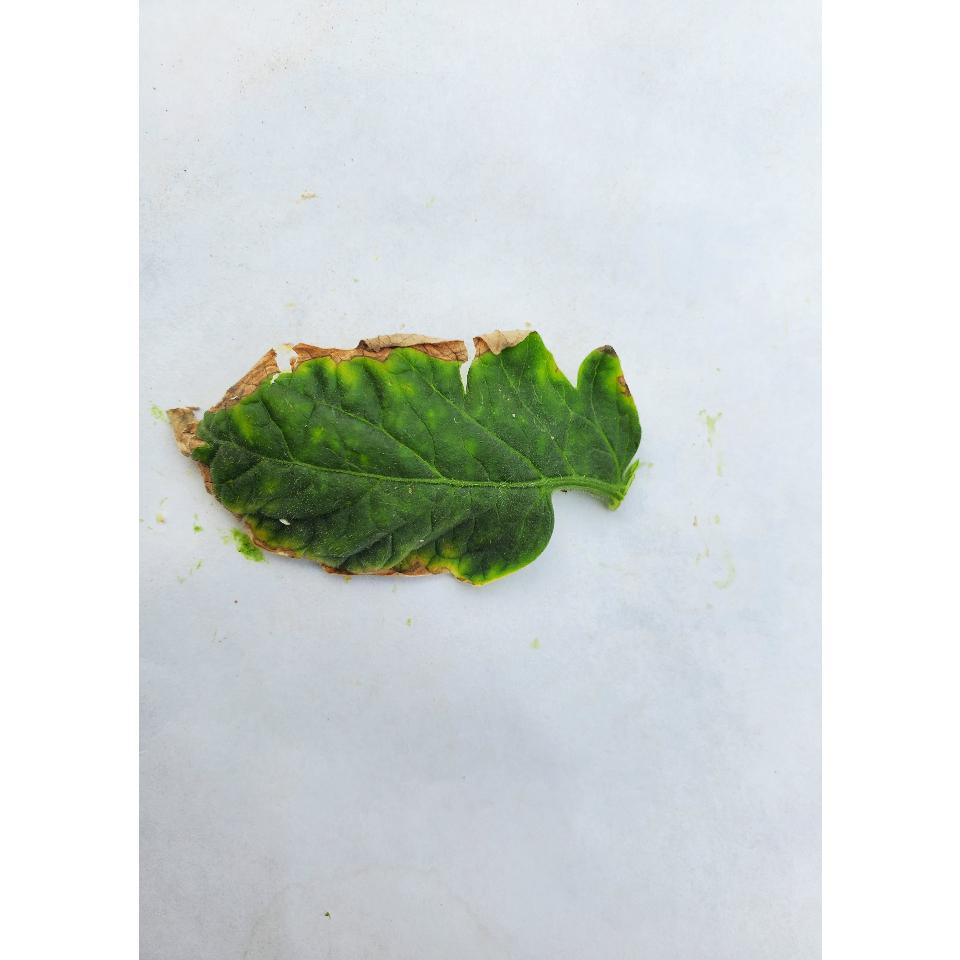tomato_bacterial_blight: (166, 329, 668, 575)
